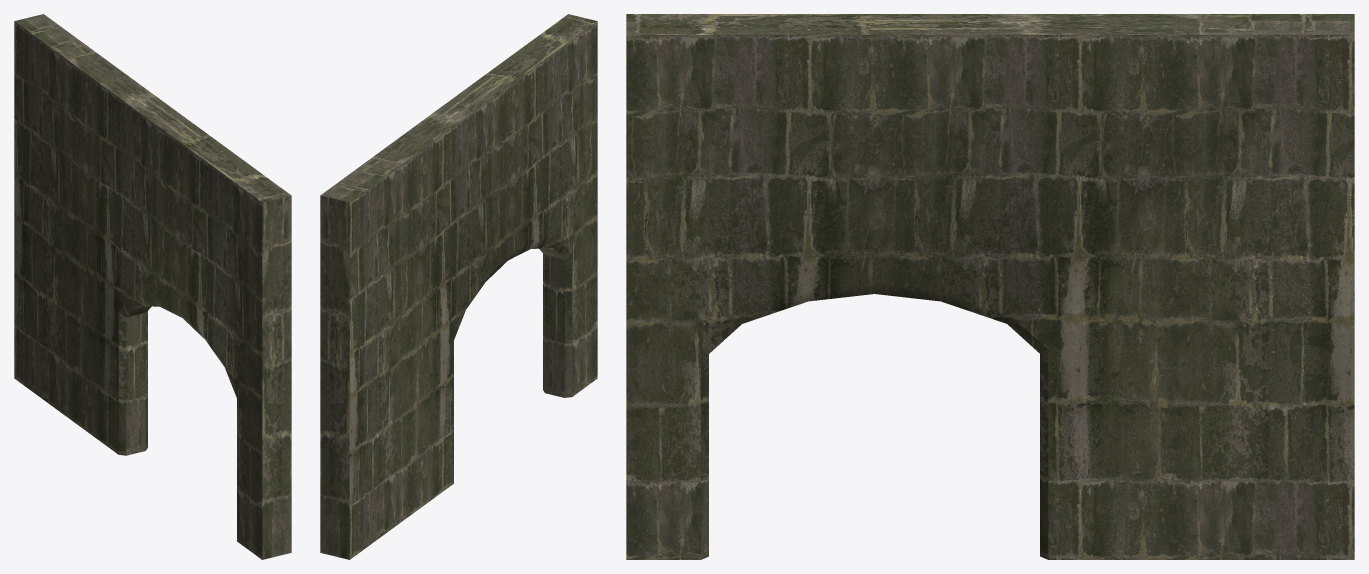
Rendered from Wall_DoubleDoorway_L.fbx.
3 renders of one model, left to right at view 1: azimuth 30°, elevation 25°; view 2: azimuth 150°, elevation 25°; view 3: azimuth 270°, elevation 25°, orthographic. The views are drawn at different scales.
Visible parts, largest first — view 1: DoubleDoorway_L; view 2: DoubleDoorway_L; view 3: DoubleDoorway_L.
Boxes of the visible parts, box(x1,y1,x2,y2) form: DoubleDoorway_L: box(14, 14, 291, 559); DoubleDoorway_L: box(320, 14, 597, 559); DoubleDoorway_L: box(626, 14, 1354, 559).
Size of the model in its own units: 51 by 595 by 748.
